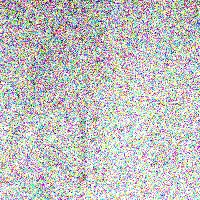pitted_surface: (20, 18, 141, 189)
